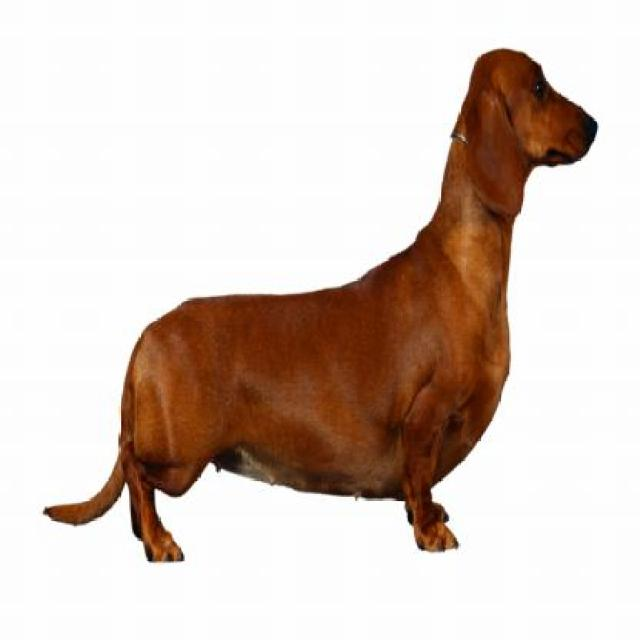Dog: (43, 35, 602, 571)
